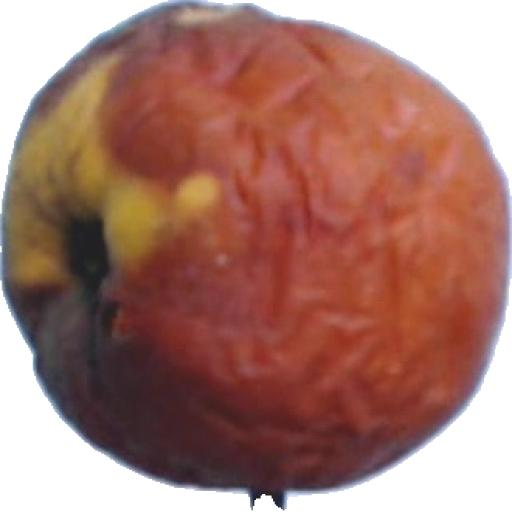apple-overripe: (0, 0, 512, 493)
